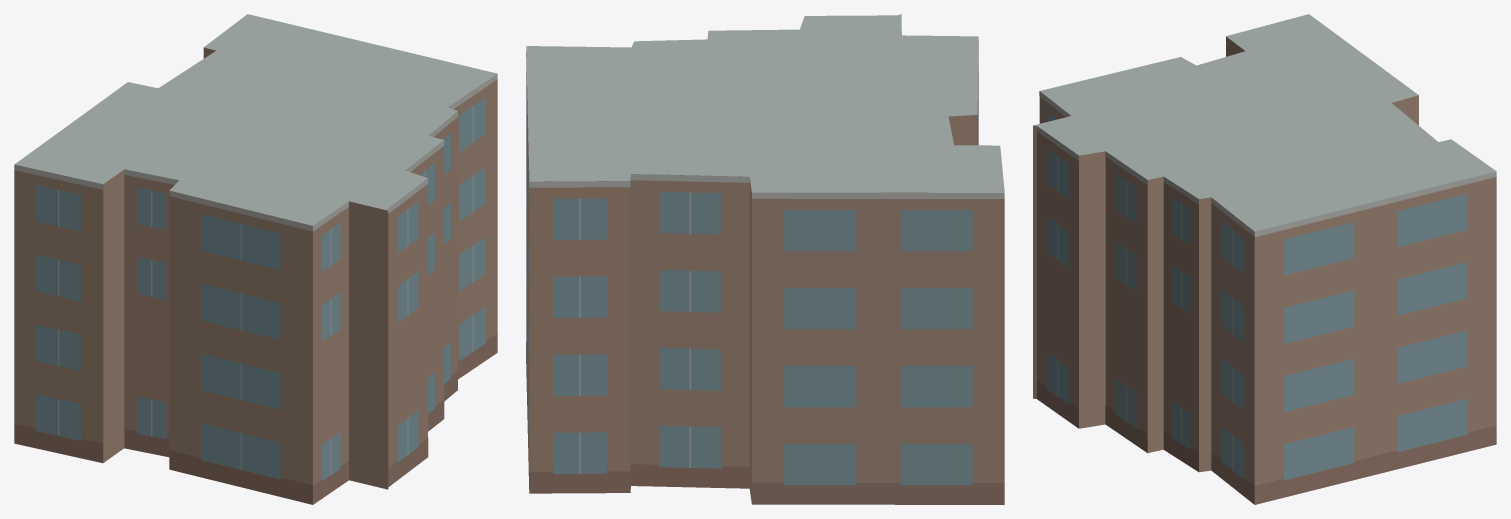
The model's file is survey-upis-32772932.glb.
The picture shows the model from 3 angles, left to right: view 1: azimuth 30°, elevation 25°; view 2: azimuth 150°, elevation 25°; view 3: azimuth 270°, elevation 25°; orthographic projection. The views are drawn at different scales.
Parts seen in each view (by area): view 1: survey-upis-32772932.tmp; view 2: survey-upis-32772932.tmp; view 3: survey-upis-32772932.tmp.
Part boxes in pixels (x1,y1,x2,y2): survey-upis-32772932.tmp: [14, 14, 497, 504]; survey-upis-32772932.tmp: [526, 14, 1004, 504]; survey-upis-32772932.tmp: [1033, 14, 1496, 504].
Size of the model in its own units: 20.86 by 12.2 by 18.77.
